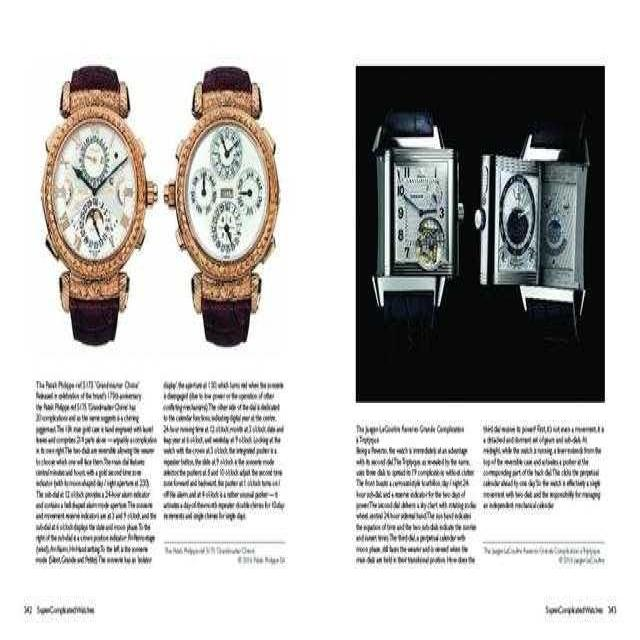watch: (170, 119, 282, 295), (41, 113, 151, 292), (475, 145, 589, 304), (367, 135, 461, 294)
